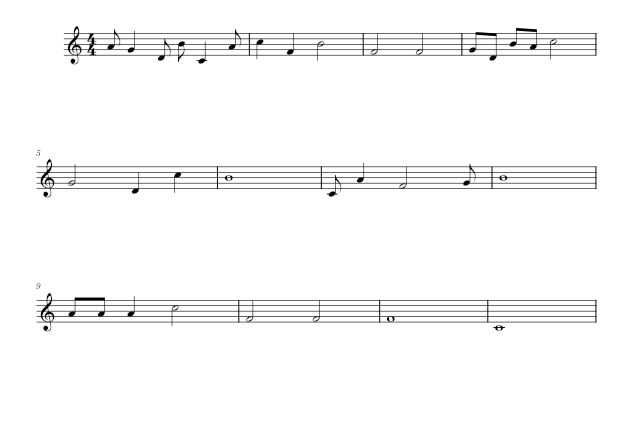Treble Clef: (63, 21, 85, 68), (37, 290, 60, 334), (37, 157, 58, 201)
